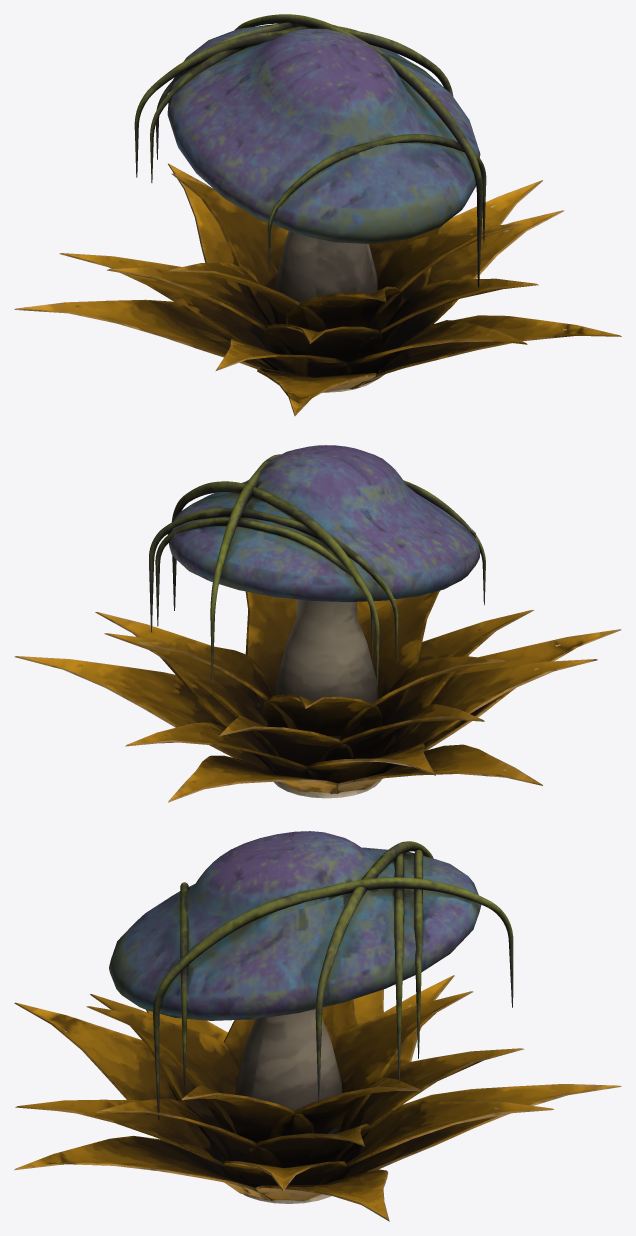
Rendered from Mush 1.fbx.
The picture shows the model from 3 angles, top to bottom: view 1: azimuth 30°, elevation 25°; view 2: azimuth 150°, elevation 25°; view 3: azimuth 270°, elevation 25°; orthographic projection. The views are drawn at different scales.
Parts seen in each view (by area): view 1: Cylinder_10; view 2: Cylinder_10; view 3: Cylinder_10.
Boxes of the visible parts, x1,y1,x2,y2 form: Cylinder_10: (14, 14, 621, 416); Cylinder_10: (14, 445, 621, 802); Cylinder_10: (14, 831, 621, 1221).
Size of the model in its own units: 697 by 405 by 663.
